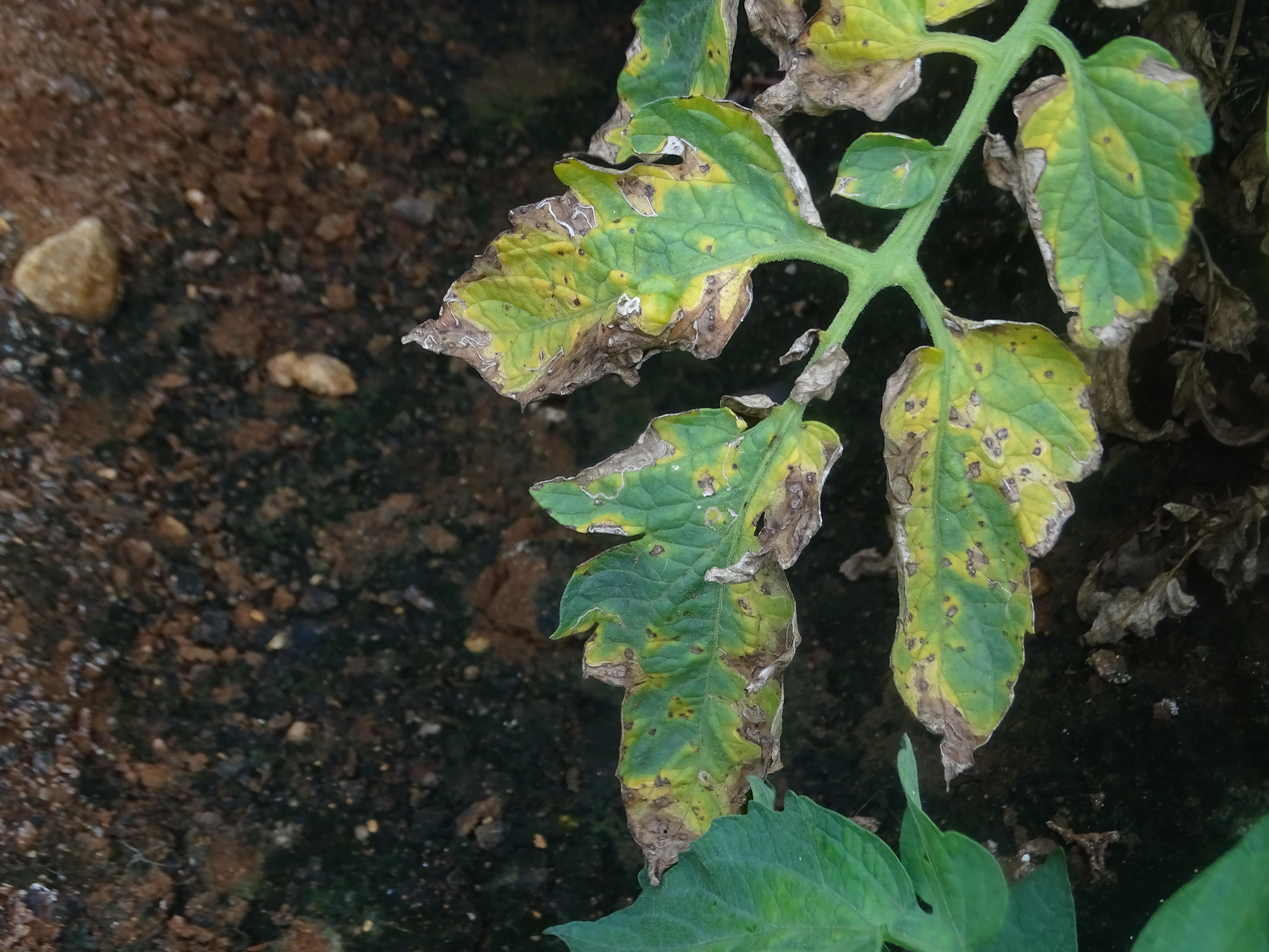Early Blight: (526, 389, 846, 892), (399, 93, 825, 405), (877, 319, 1104, 791), (1006, 29, 1209, 350), (749, 2, 926, 121)
